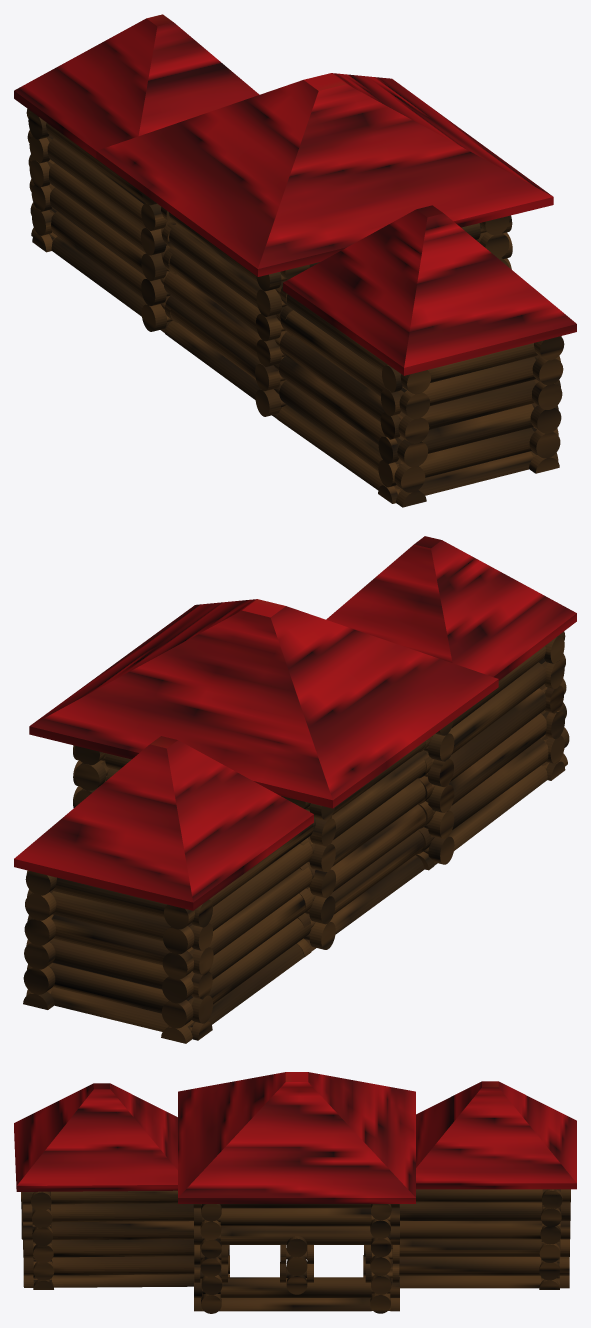
Rendered from EnemyBaseHouse.fbx.
3 views of the same model, one above another, from view 1: azimuth 30°, elevation 25°; view 2: azimuth 150°, elevation 25°; view 3: azimuth 270°, elevation 25° (orthographic). The views are drawn at different scales.
Parts seen in each view (by area): view 1: EnemyBase; view 2: EnemyBase; view 3: EnemyBase.
Boxes of the visible parts, bbox=[...] form: EnemyBase: bbox=[14, 14, 576, 507]; EnemyBase: bbox=[14, 536, 576, 1043]; EnemyBase: bbox=[14, 1072, 576, 1313].
Size of the model in its own units: 2432 by 2065 by 5439.
Materials: 1 (1 with a texture image).
